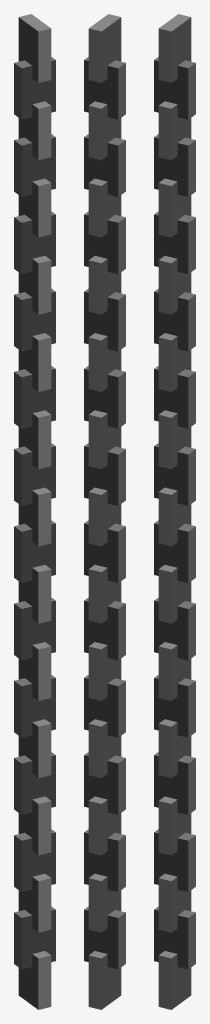
Rendered from SD_Prop_HangingChain_01.fbx.
3 views of the same model, side by side, from view 1: azimuth 30°, elevation 25°; view 2: azimuth 150°, elevation 25°; view 3: azimuth 330°, elevation 25° (orthographic).
Visible parts, largest first — view 1: SD_Prop_HangingChain_01; view 2: SD_Prop_HangingChain_01; view 3: SD_Prop_HangingChain_01.
Part boxes in pixels (left/top/right/bottom): SD_Prop_HangingChain_01: left=14, top=14, right=55, bottom=1009; SD_Prop_HangingChain_01: left=84, top=14, right=125, bottom=1009; SD_Prop_HangingChain_01: left=154, top=14, right=195, bottom=1009.
Bounding box in the file's own units: 0.2728 × 7.43 × 0.2728.
